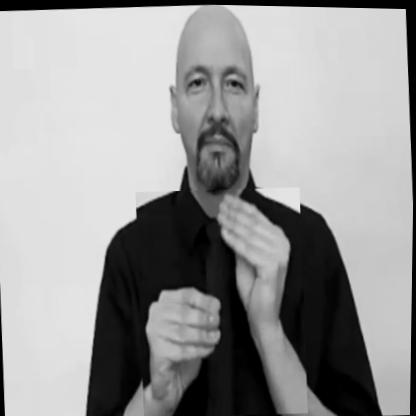Fix: (133, 182, 311, 416)
